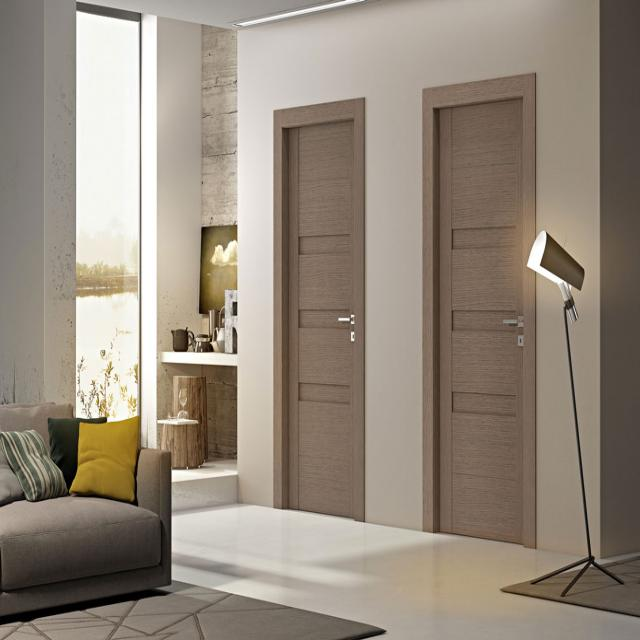close: (423, 88, 538, 545), (278, 113, 364, 516)
